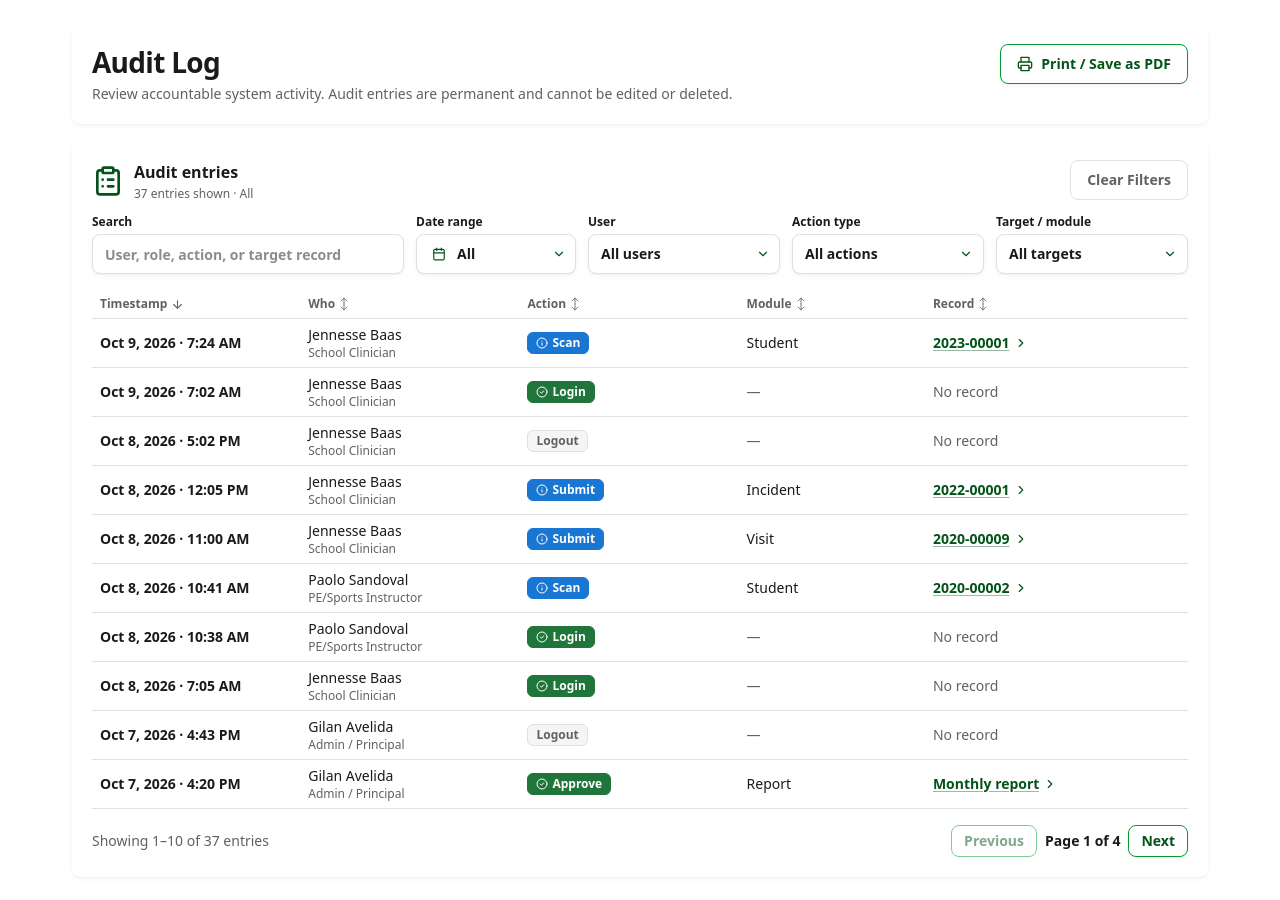
Test case: Audit Log › filters action types through the multi-select control
Expected: the table named "Filtered audit log" is shown, [92,290,1188,808]
What coordinates should you click on to do the following:
click the button named "action type all actions"
I would click on:
 (888, 254)
Its box is [792,234,984,274].
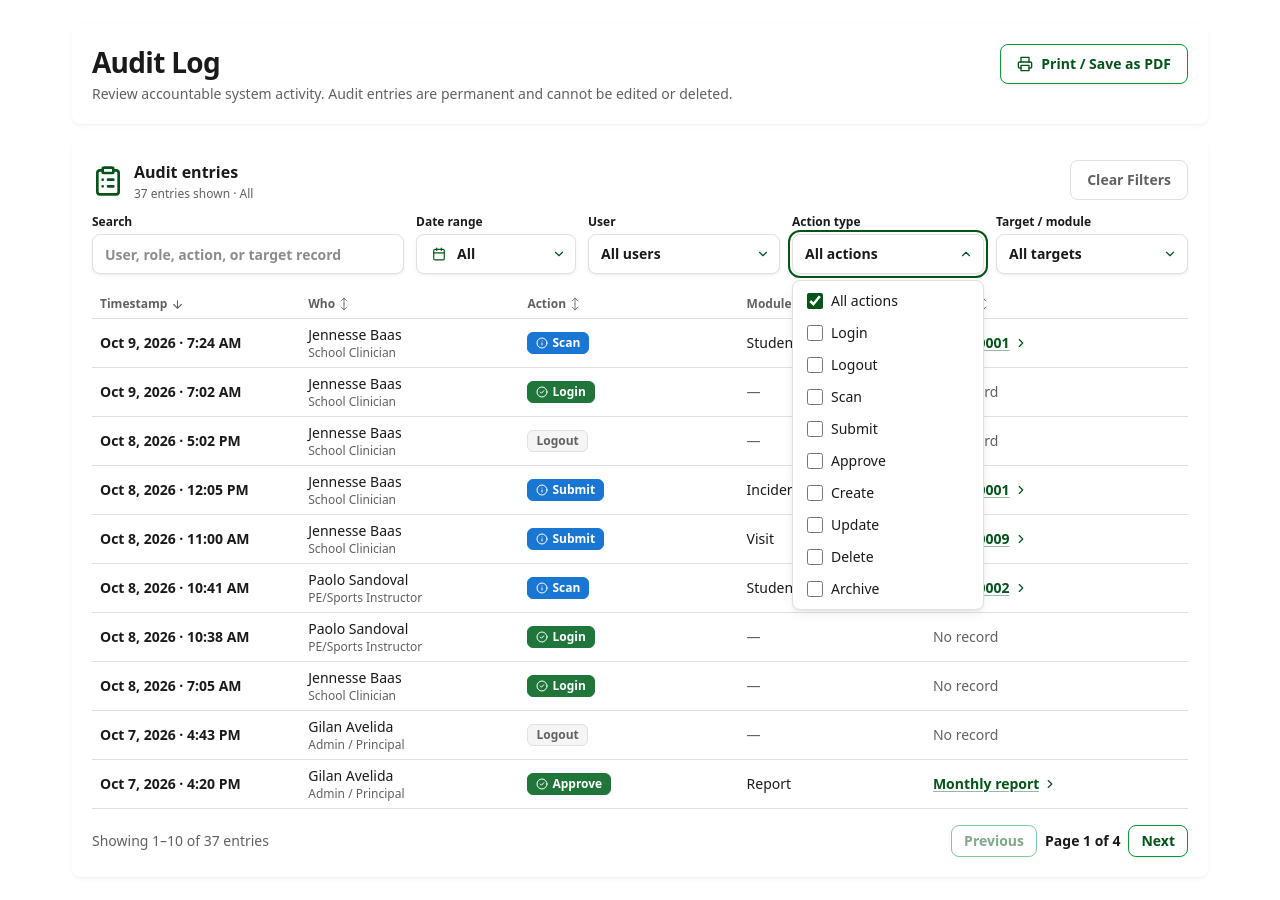
What coordinates should you click on to do the following:
click the checkbox labelled "Archive"
I would click on:
 (815, 589)
Its box is [807,581,823,597].
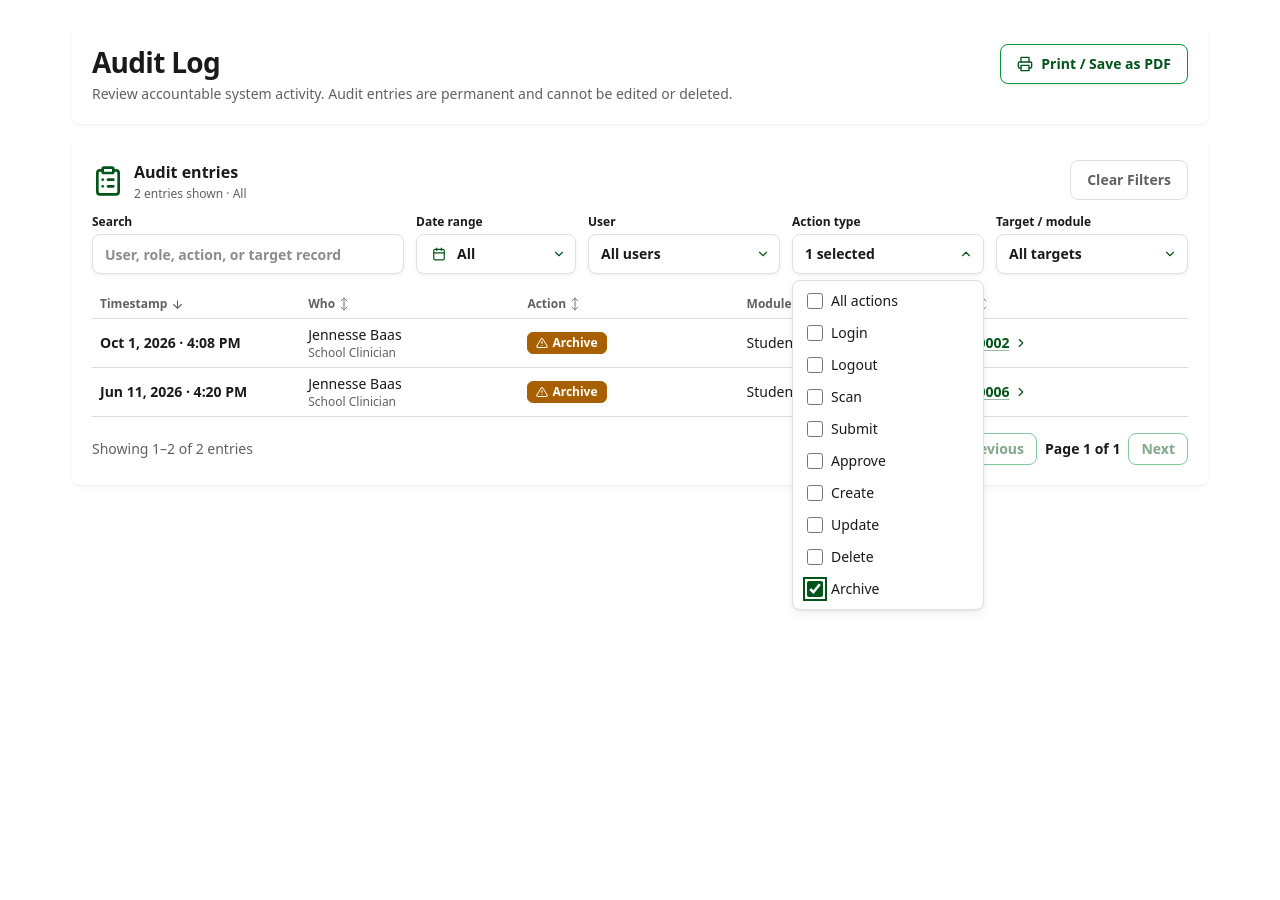
What coordinates should you click on to do the following:
click the button named "action type 1 selected"
I would click on:
 (888, 254)
Its box is [792,234,984,274].
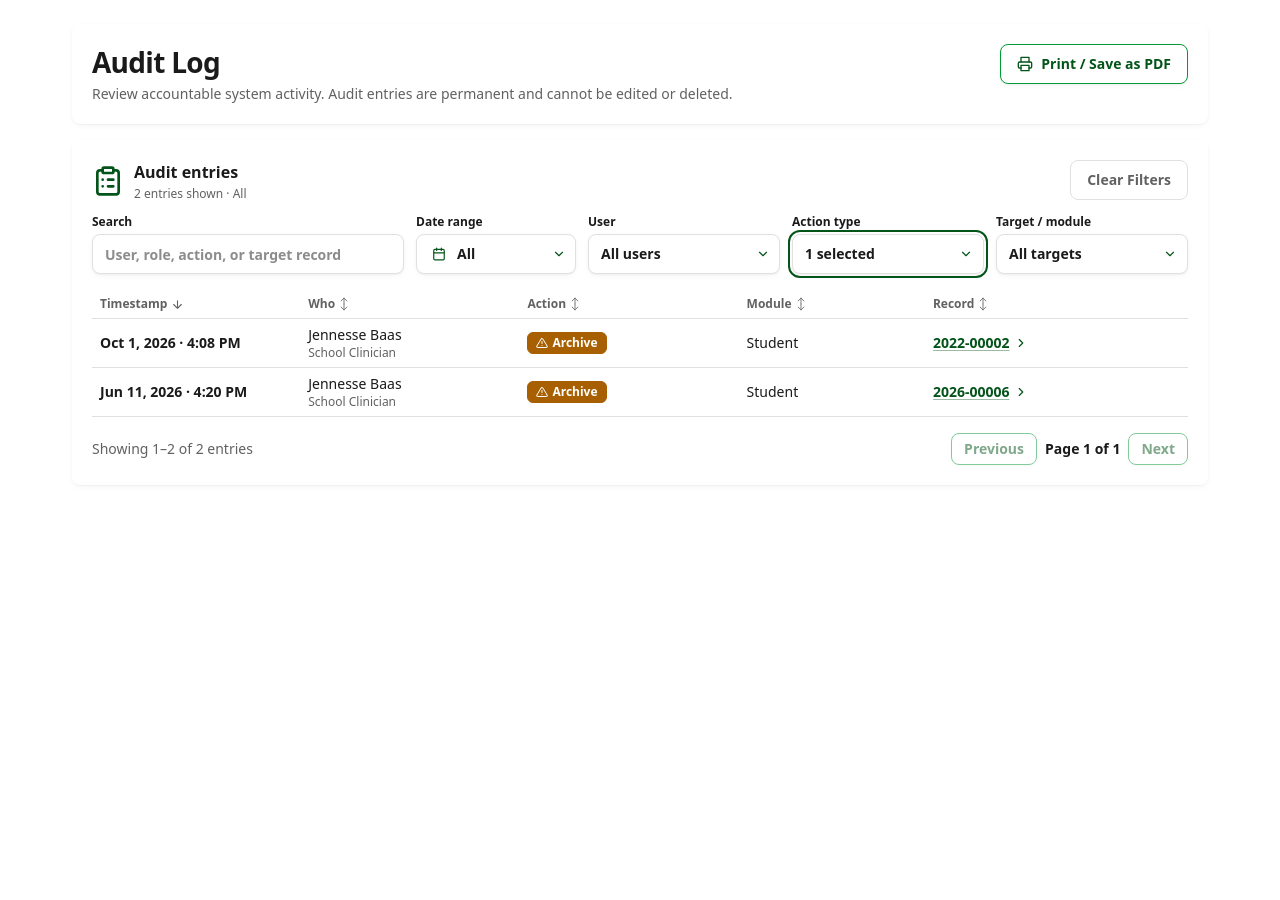
Expected: the text "2 entries shown · All" is shown, [134,186,246,202]
Expected: the text "Archive" is shown 2 times, [527,332,606,354]; [527,381,606,403]
Expected: the text "Login" is gone
